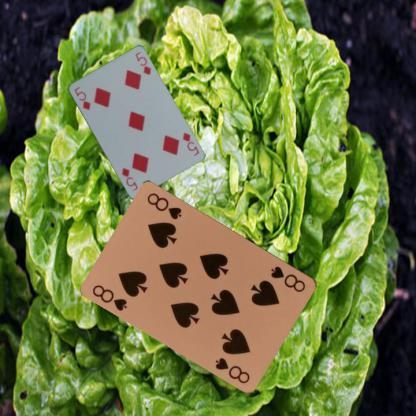5d: (72, 84, 92, 111), (180, 130, 200, 157)
8s: (89, 282, 129, 313), (268, 263, 307, 293)
